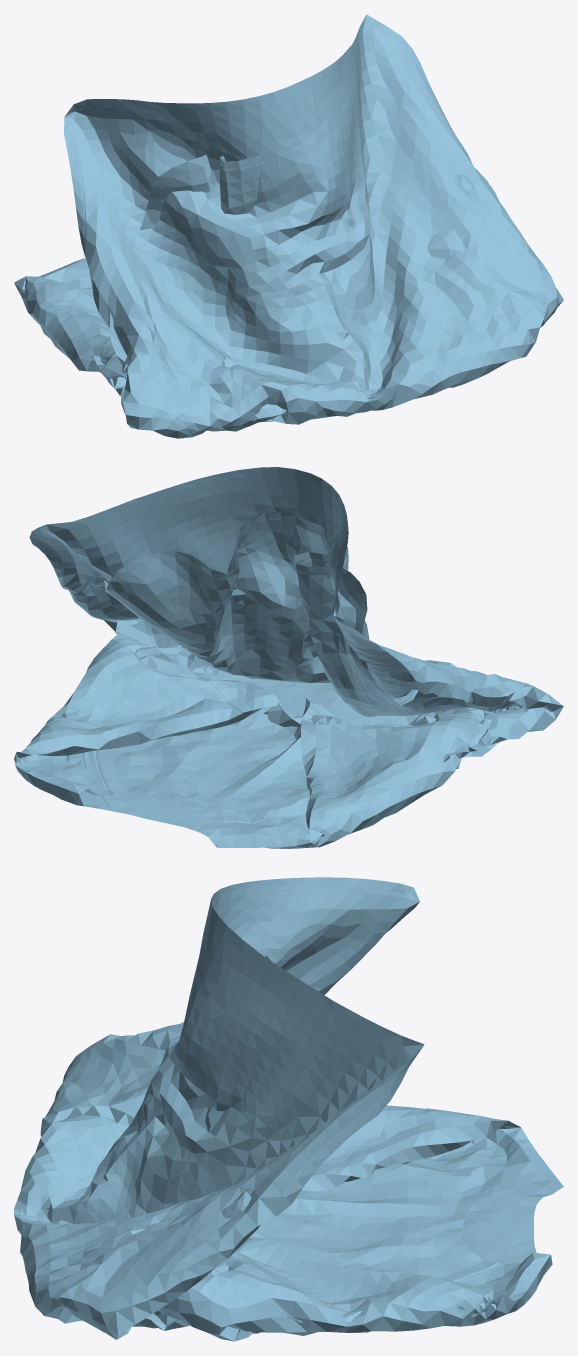
The model's file is frame_17.glb.
3 renders of one model, top to bottom at view 1: azimuth 30°, elevation 25°; view 2: azimuth 150°, elevation 25°; view 3: azimuth 270°, elevation 25°, orthographic. The views are drawn at different scales.
Parts seen in each view (by area): view 1: frame_17.obj; view 2: frame_17.obj; view 3: frame_17.obj.
Part boxes in pixels (x1=…): frame_17.obj: x1=14, y1=14, x2=563, y2=438; frame_17.obj: x1=14, y1=467, x2=563, y2=848; frame_17.obj: x1=14, y1=877, x2=563, y2=1341.
Bounding box in the file's own units: 1.16 × 0.6735 × 1.01.
